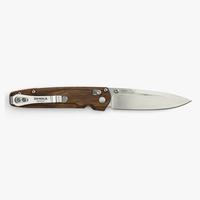knife: (6, 76, 197, 117)
